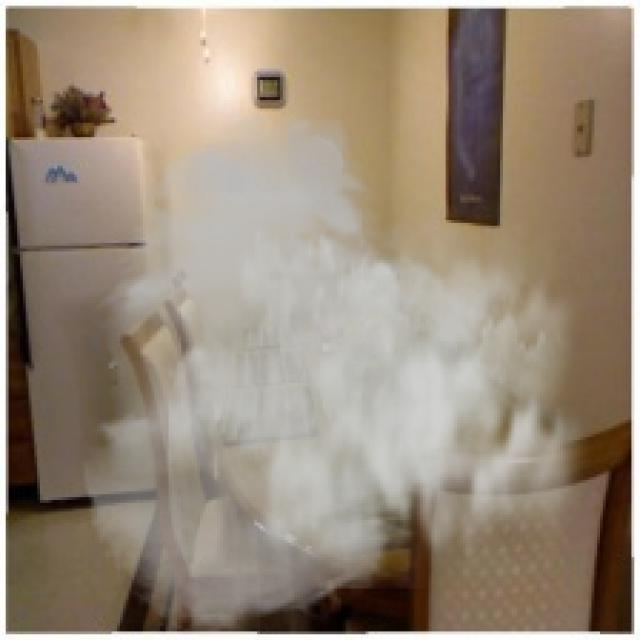Smoke: (80, 108, 614, 638)
